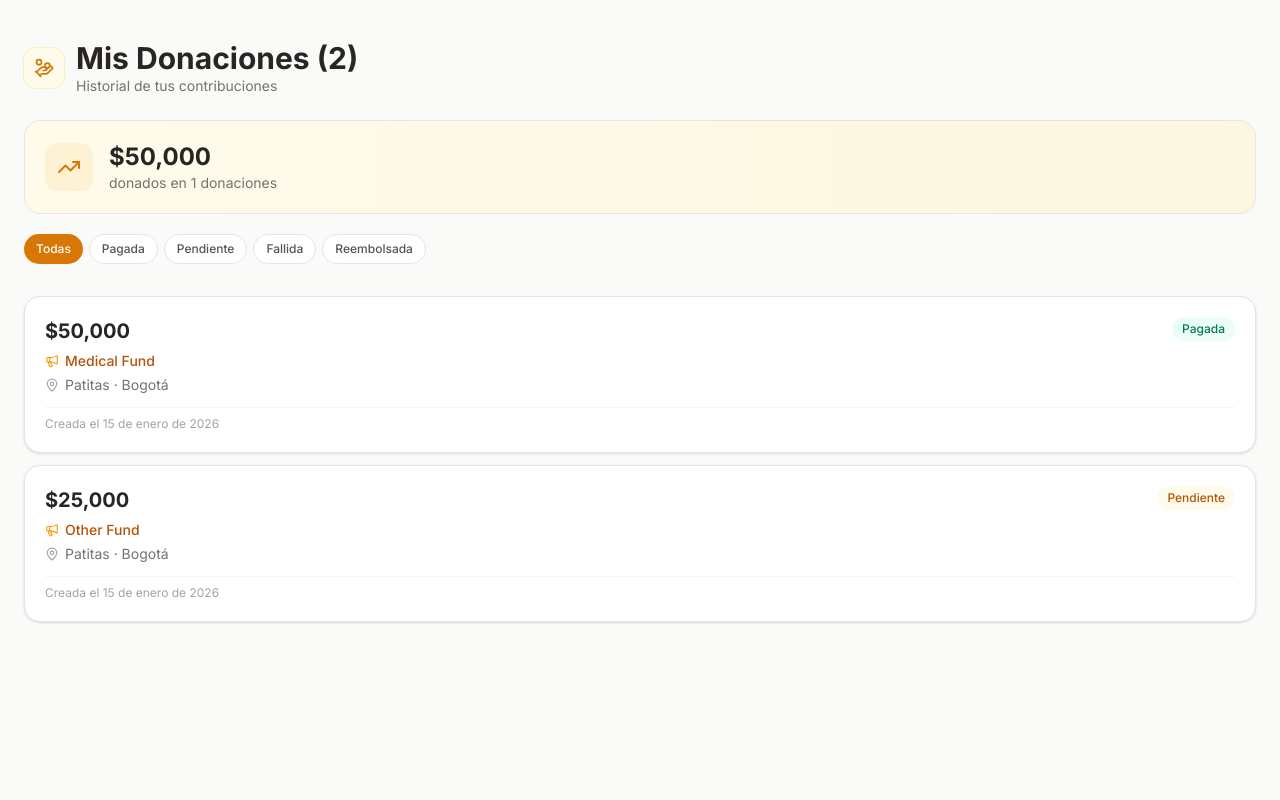
it: MisDonacionesPage › filters donations by status when filter button is clicked
Expected: the text "Medical Fund" is shown, [65, 351, 155, 371]
Expected: the text "Other Fund" is shown, [65, 520, 140, 540]
// Click the "Pendiente" filter button
Click the button "Pendiente".
click(206, 249)  # box [164, 234, 247, 264]
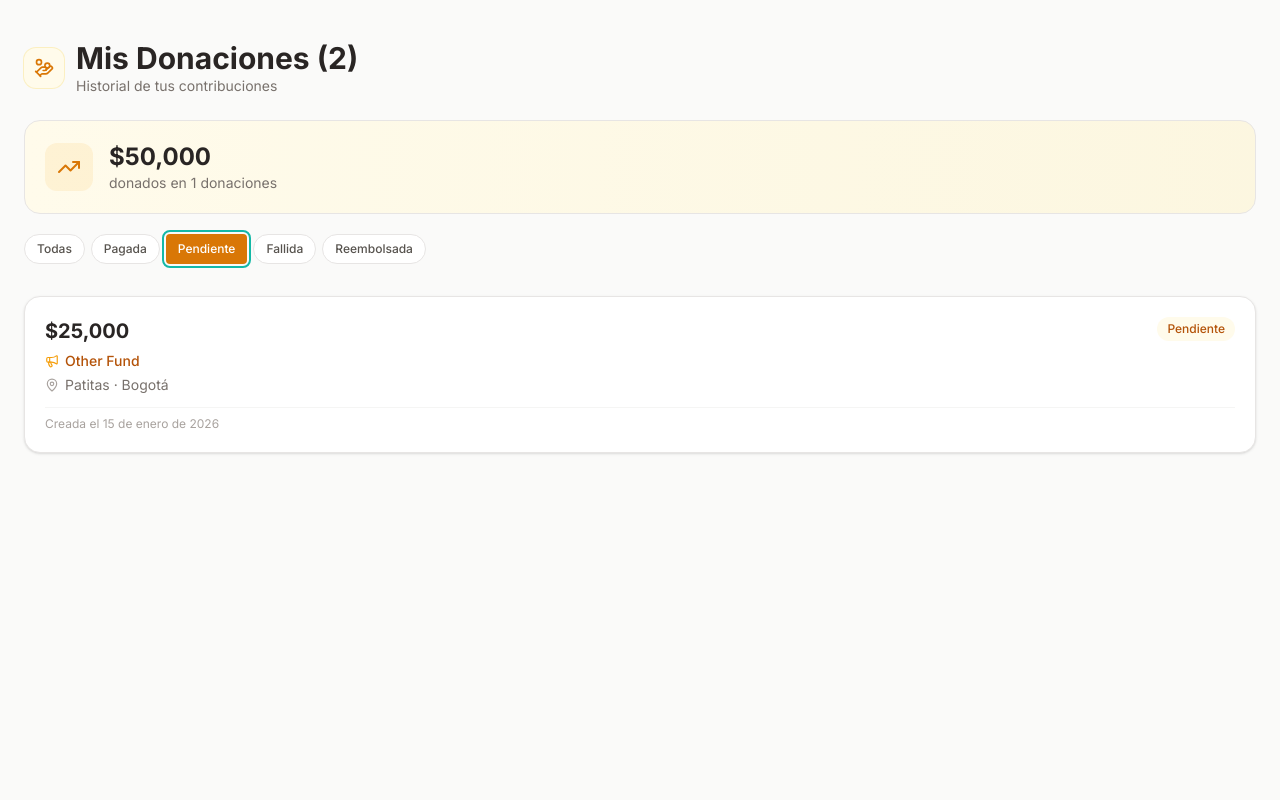
Expected: the text "Other Fund" is shown, [65, 351, 140, 371]
Expected: the text "Medical Fund" is gone
